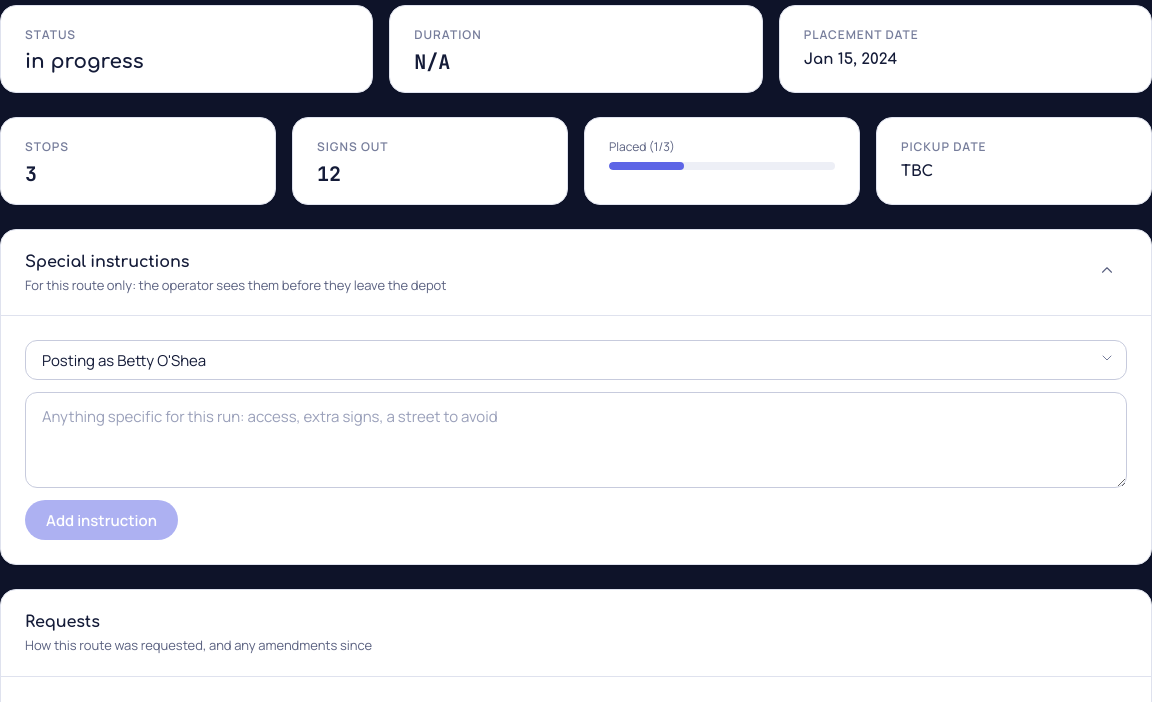
Customer route detail tracker › lets a customer add a special instruction for the route, attributed to a picked agent
(page scrolled)
Select "Posting as David Mun" in the dropdown named "posting as" at point(576, 360), box [25, 340, 1127, 380]
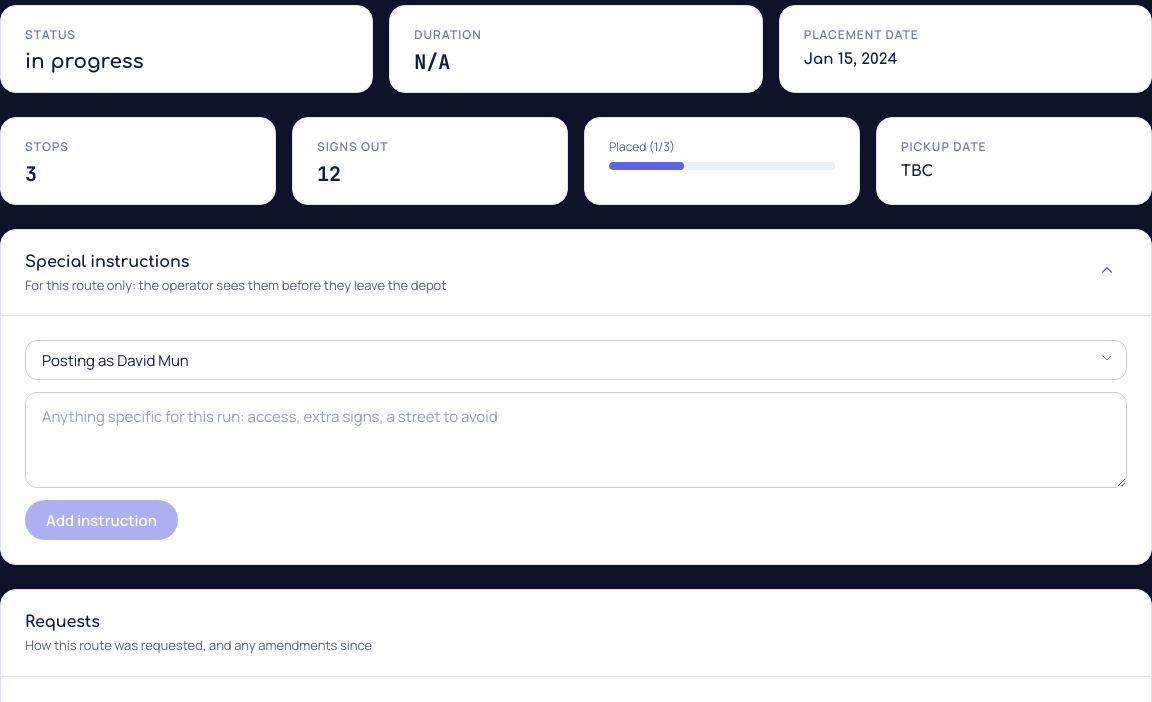
Replace the text in the text box named "add an instruction for this route" with "Leave signs at side gate" at point(576, 440), box [25, 392, 1127, 488]
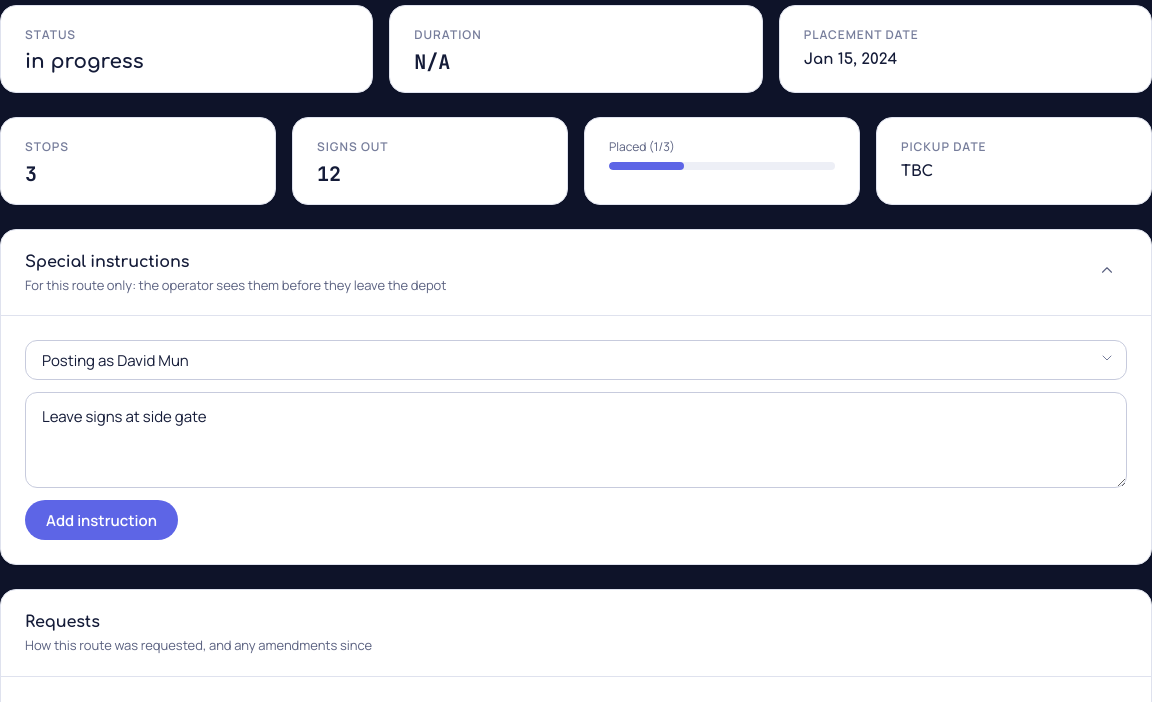
Click the button "Add instruction" at point(101, 520), box [25, 500, 178, 540]
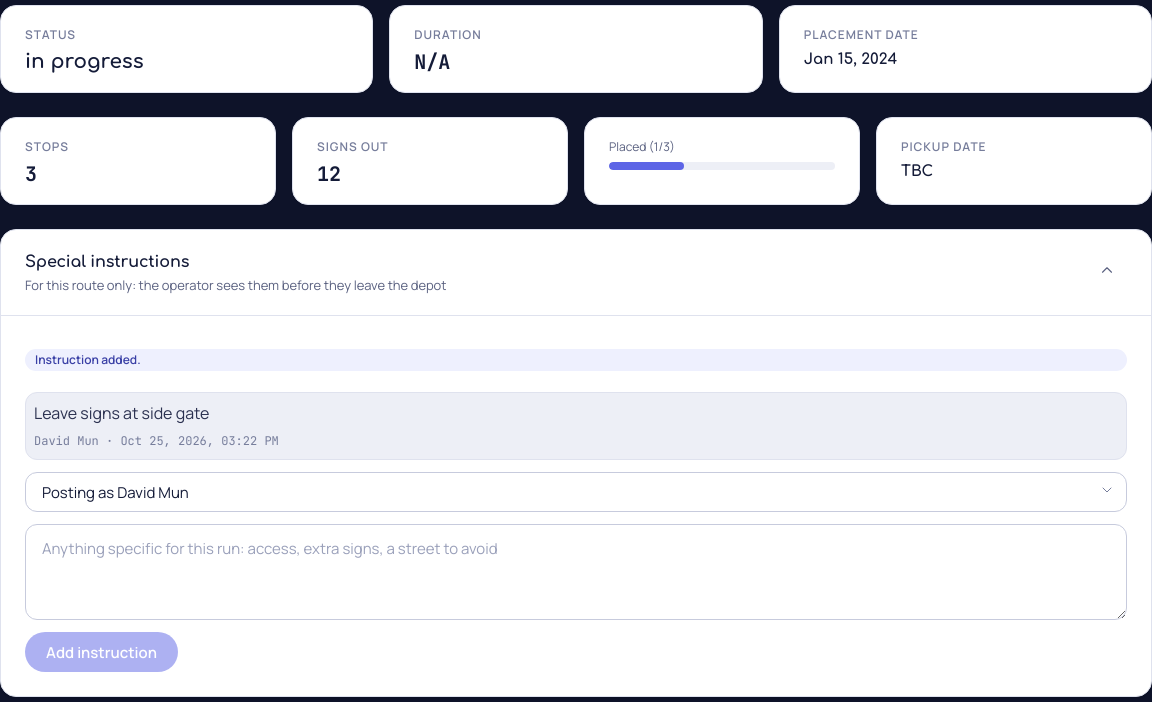
Expected: the text "Instruction added." is shown, [25, 349, 1127, 371]
Expected: the text "Leave signs at side gate" is shown, [34, 401, 210, 425]
Expected: the text "David Mun · Oct 25, 2026, 03:22 PM" is shown, [34, 433, 279, 449]
